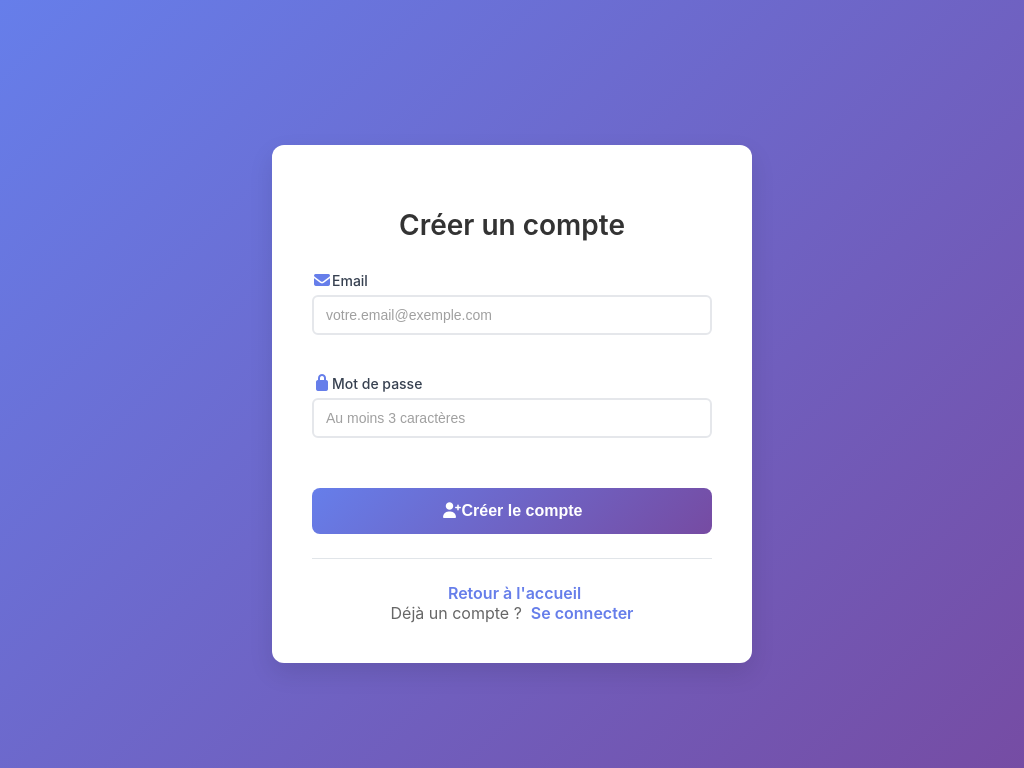
Test: Register Component › shows loading state when submitting
The width and height of the screenshot is (1024, 768).
Type "test@example.com" into the field labelled "Email".
click(512, 315); type("test@example.com")  # box [312, 295, 712, 335]
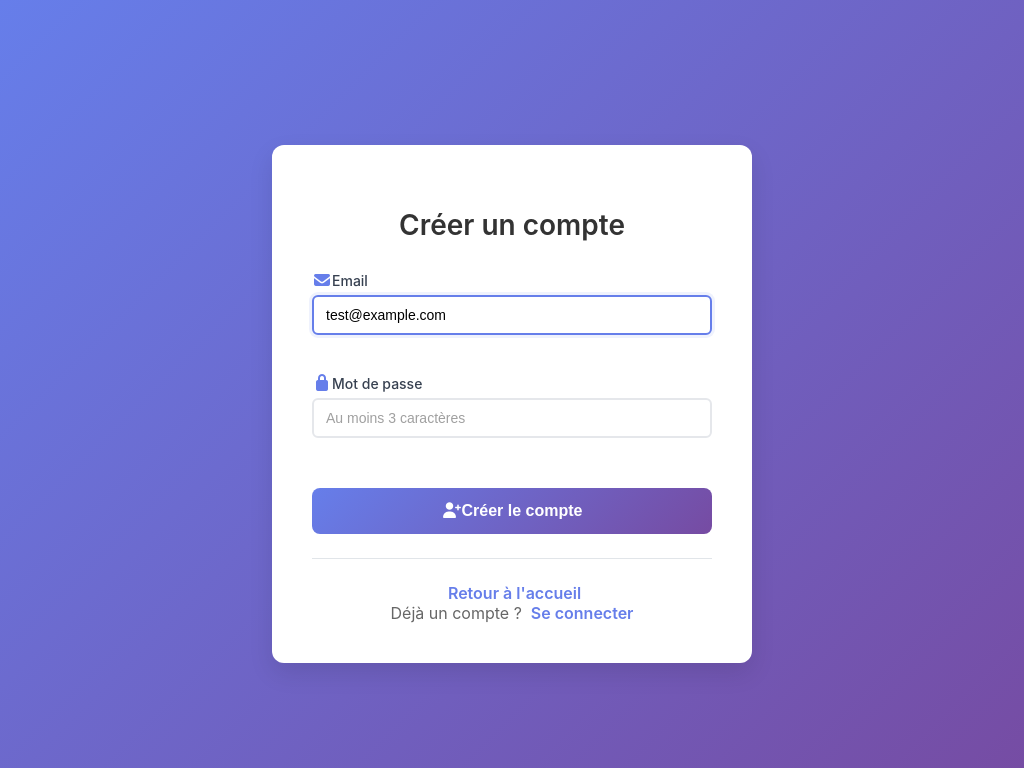
Type "password123" into the password field labelled "Mot de passe".
click(512, 418); type("password123")  # box [312, 398, 712, 438]
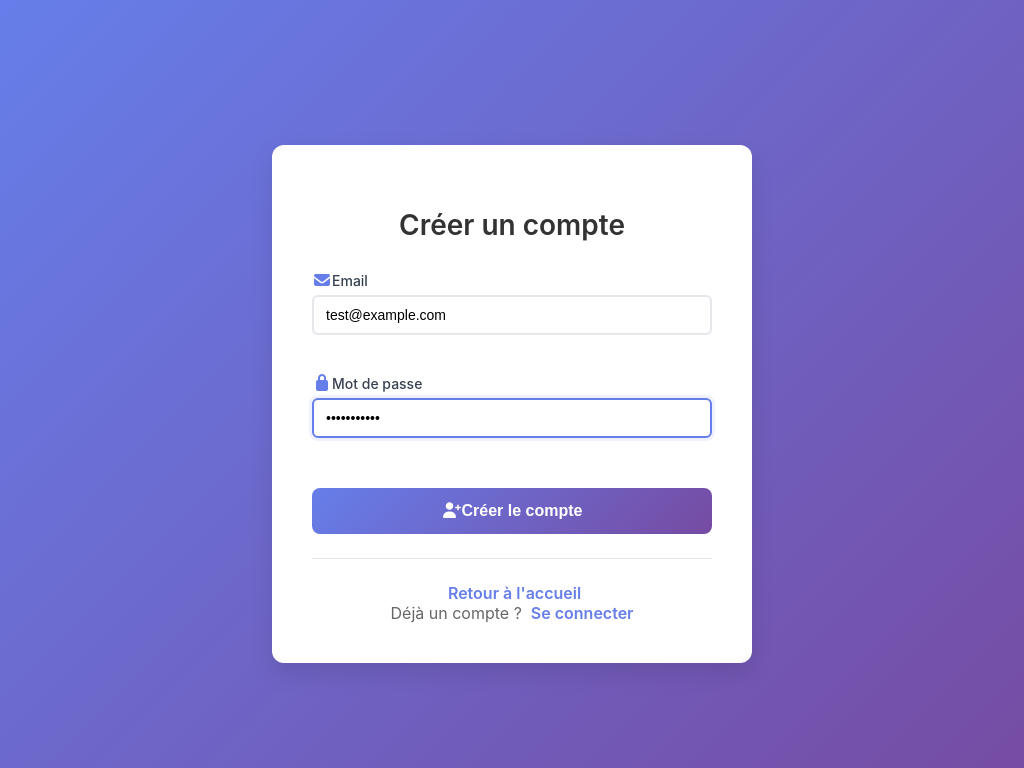
Click the button "Créer le compte".
click(512, 511)  # box [312, 488, 712, 534]
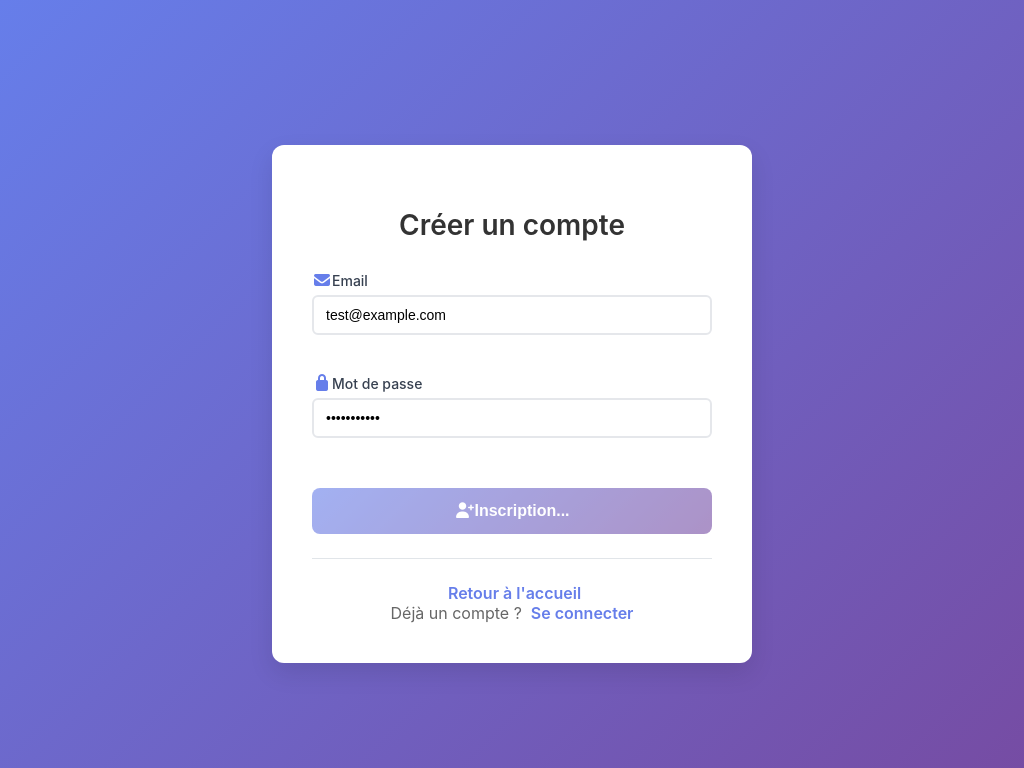
Check: the button "Inscription..." is disabled, box [312, 488, 712, 534]
